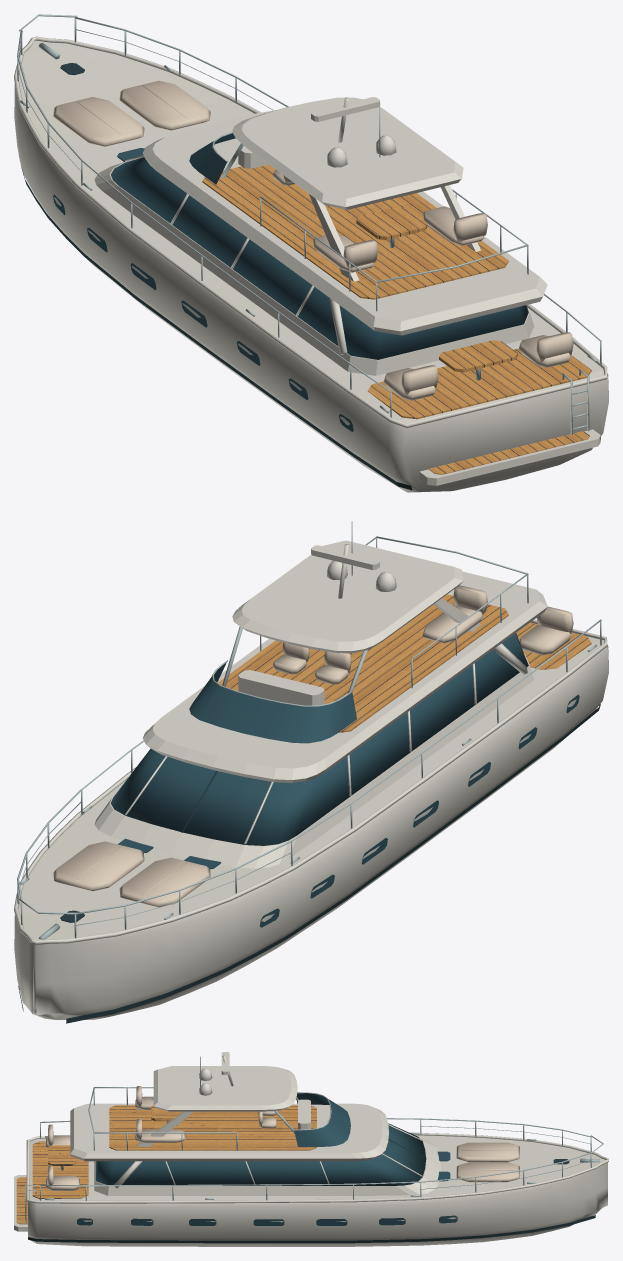
Rendered from superyacht-v1.glb.
3 views of the same model, one above another, from view 1: azimuth 30°, elevation 25°; view 2: azimuth 150°, elevation 25°; view 3: azimuth 270°, elevation 25° (orthographic). The views are drawn at different scales.
Visible parts, largest first — view 1: Superyacht_Fiberglass, Superyacht_Teak, Superyacht_Glazing, Superyacht_Upholstery, Superyacht_Stainless, Superyacht_Recess; view 2: Superyacht_Fiberglass, Superyacht_Glazing, Superyacht_Upholstery, Superyacht_Teak, Superyacht_Stainless, Superyacht_Recess; view 3: Superyacht_Fiberglass, Superyacht_Glazing, Superyacht_Teak, Superyacht_Upholstery, Superyacht_Stainless, Superyacht_Recess.
Part boxes in pixels (box(x1,y1,x2,y2)): Superyacht_Fiberglass: box(14, 36, 608, 492); Superyacht_Teak: box(202, 164, 591, 474); Superyacht_Glazing: box(53, 133, 528, 431); Superyacht_Upholstery: box(53, 80, 573, 400); Superyacht_Stainless: box(17, 14, 601, 435); Superyacht_Recess: box(20, 63, 600, 490); Superyacht_Fiberglass: box(14, 540, 608, 1019); Superyacht_Glazing: box(110, 633, 579, 927); Superyacht_Upholstery: box(53, 585, 573, 907); Superyacht_Teak: box(218, 594, 591, 732); Superyacht_Stainless: box(17, 521, 601, 939); Superyacht_Recess: box(18, 704, 600, 1023); Superyacht_Fiberglass: box(14, 1052, 608, 1246); Superyacht_Glazing: box(77, 1093, 457, 1225); Superyacht_Teak: box(16, 1105, 316, 1224); Superyacht_Upholstery: box(46, 1086, 519, 1190); Superyacht_Stainless: box(25, 1056, 603, 1224); Superyacht_Recess: box(28, 1139, 595, 1243).
Size of the model in its own units: 7.24 by 8.25 by 26.04.
Materials: 6 (2 with a texture image).
